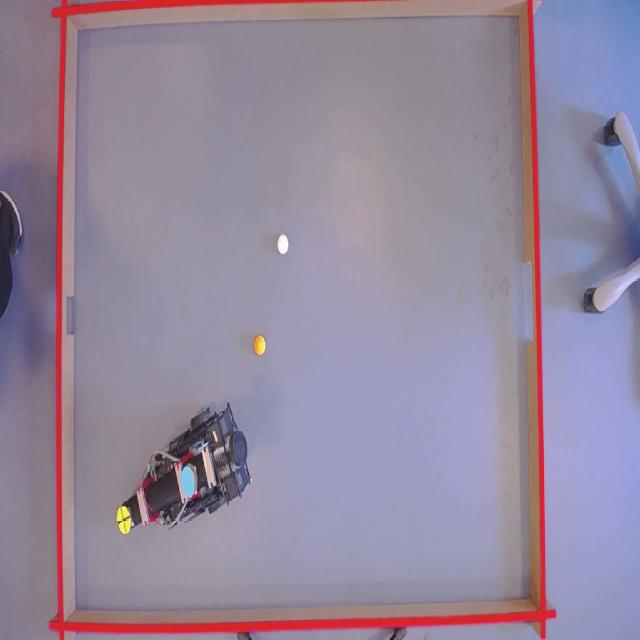orange: (255, 336, 268, 356)
robot: (110, 408, 253, 536)
robot-front: (116, 505, 131, 535)
robot-rear: (180, 464, 198, 499)
white: (275, 234, 289, 254)
